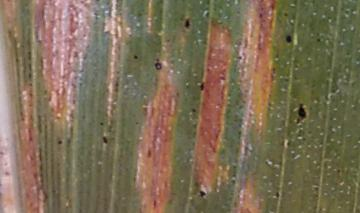tarspot: (295, 101, 306, 124), (183, 15, 191, 30), (284, 33, 293, 46), (153, 61, 163, 71), (198, 188, 208, 198), (100, 134, 109, 145), (145, 147, 152, 160), (274, 189, 282, 199), (198, 82, 205, 92), (189, 107, 196, 115), (98, 120, 106, 127), (234, 55, 244, 60), (257, 12, 264, 19), (132, 53, 138, 61), (57, 138, 63, 146), (315, 37, 320, 43), (282, 10, 287, 16), (94, 1, 101, 3)
